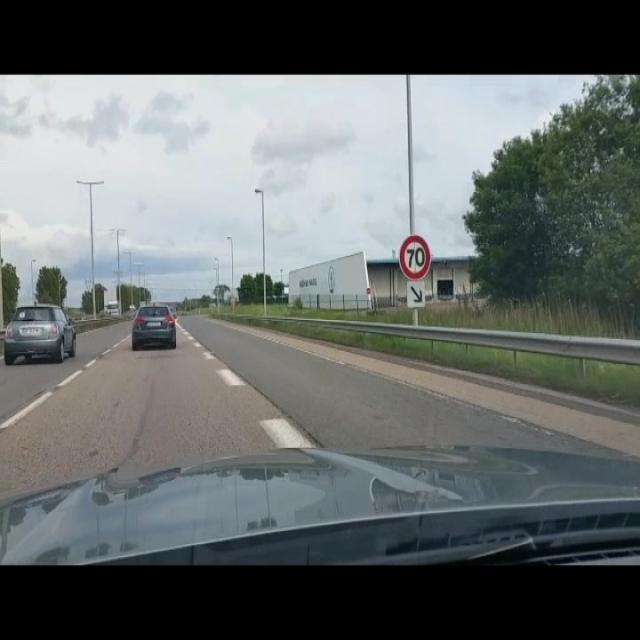side_right: (407, 282, 425, 306)
speed_70: (399, 234, 431, 281)
